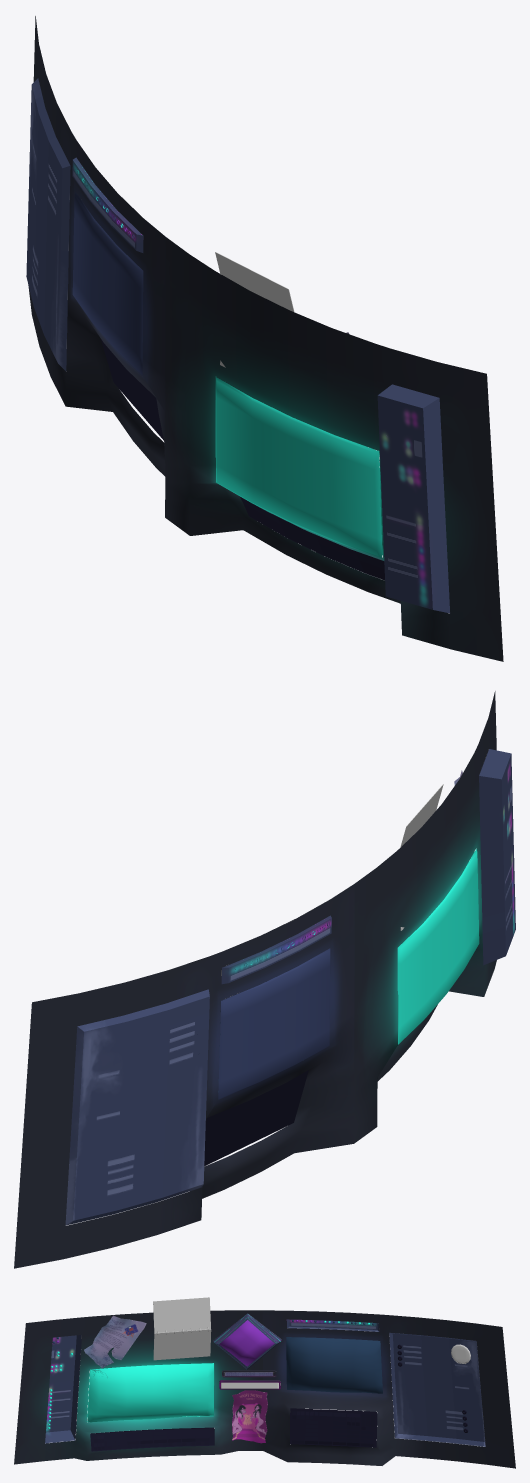
The model's file is 2eme_EXPORT_FBX_Cockpit_model.fbx.
3 views of the same model, one above another, from view 1: azimuth 30°, elevation 25°; view 2: azimuth 150°, elevation 25°; view 3: azimuth 270°, elevation 25° (orthographic). The views are drawn at different scales.
Visible parts, largest first — view 1: Base Cockpit Low poly, encard cockpit lowpoly, écran ordi low poly, écran scan low poly, clavier ordi low poly, support clavier scan, calendrier_dessus; view 2: Base Cockpit Low poly, encard cockpit lowpoly, écran scan low poly, écran ordi low poly, support clavier scan, calendrier_dessus; view 3: Base Cockpit Low poly, encard cockpit lowpoly, ordinateur écran lowpoly, scan écran lowpoly, clavier scan low poly.001, calendrier_dessus, affiche ASR lowpoly, affiche pinup et petit animaux, clavier scan low poly, calendrier_dessus.001, support clavier scan, clavier ordi low poly (+7 smaller).
Part boxes in pixels (box(x1,y1,x2,y2)): Base Cockpit Low poly: box(28, 16, 503, 661); encard cockpit lowpoly: box(26, 78, 449, 613); écran ordi low poly: box(215, 377, 382, 558); écran scan low poly: box(72, 192, 143, 375); clavier ordi low poly: box(240, 496, 384, 580); support clavier scan: box(101, 339, 163, 440); calendrier_dessus: box(215, 252, 294, 311); Base Cockpit Low poly: box(14, 691, 496, 1268); encard cockpit lowpoly: box(65, 749, 515, 1225); écran scan low poly: box(218, 948, 330, 1099); écran ordi low poly: box(397, 849, 479, 1044); support clavier scan: box(204, 1070, 308, 1166); calendrier_dessus: box(400, 784, 443, 847); Base Cockpit Low poly: box(14, 1310, 515, 1468); encard cockpit lowpoly: box(45, 1319, 485, 1446); ordinateur écran lowpoly: box(87, 1363, 213, 1422); scan écran lowpoly: box(286, 1337, 382, 1393); clavier scan low poly.001: box(292, 1411, 374, 1446); calendrier_dessus: box(153, 1297, 210, 1332); affiche ASR lowpoly: box(84, 1315, 146, 1368); affiche pinup et petit animaux: box(232, 1390, 267, 1443); clavier scan low poly: box(93, 1430, 209, 1450); calendrier_dessus.001: box(153, 1329, 211, 1360); support clavier scan: box(290, 1408, 377, 1447); clavier ordi low poly: box(90, 1427, 214, 1451).
Bounding box in the file's own units: 76 × 188 × 554.
